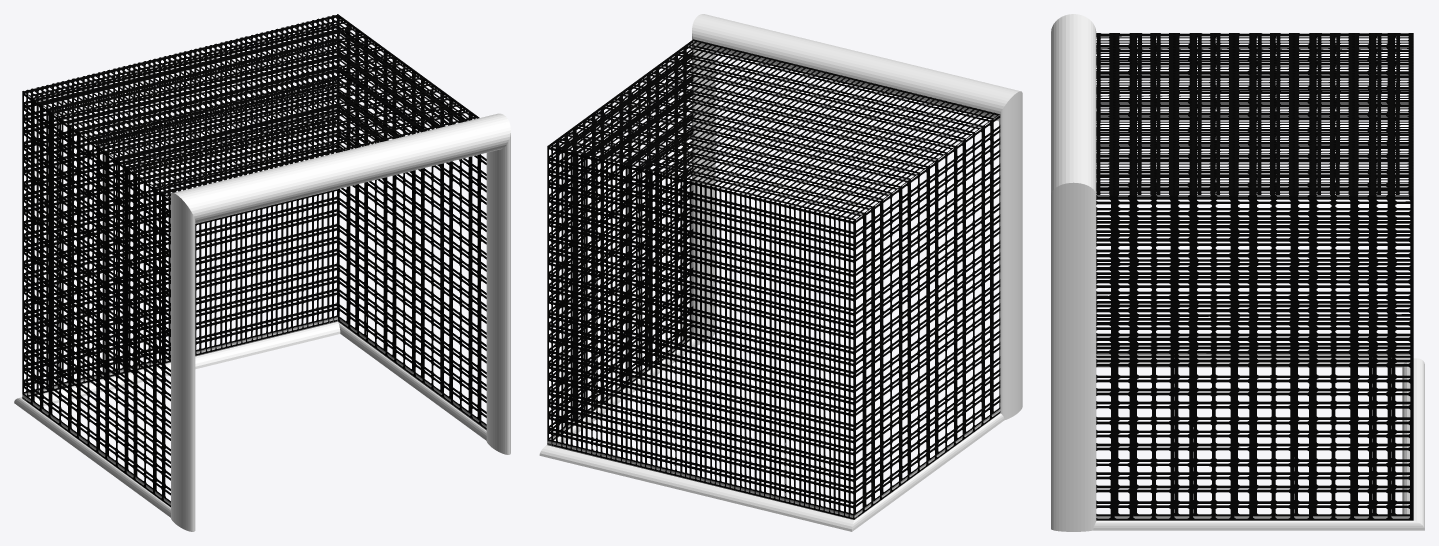
Rendered from leftsoccergoal.obj.
The picture shows the model from 3 angles, left to right: view 1: azimuth 30°, elevation 25°; view 2: azimuth 150°, elevation 25°; view 3: azimuth 270°, elevation 25°; orthographic projection. The views are drawn at different scales.
Parts seen in each view (by area): view 1: NetOuter_NetOuterCube, NetInner_NetInnerCube, Goalsposts_GoalpostTube, Groundring_GroundringTube; view 2: NetOuter_NetOuterCube, NetInner_NetInnerCube, Goalsposts_GoalpostTube, Groundring_GroundringTube; view 3: NetOuter_NetOuterCube, NetInner_NetInnerCube, Goalsposts_GoalpostTube, Groundring_GroundringTube.
Boxes of the visible parts, bbox=[...] form: NetOuter_NetOuterCube: bbox=[22, 15, 486, 507]; NetInner_NetInnerCube: bbox=[22, 14, 486, 505]; Goalsposts_GoalpostTube: bbox=[171, 113, 510, 531]; Groundring_GroundringTube: bbox=[14, 322, 486, 517]; NetOuter_NetOuterCube: bbox=[547, 39, 1000, 519]; NetInner_NetInnerCube: bbox=[547, 40, 1000, 518]; Goalsposts_GoalpostTube: bbox=[692, 14, 1022, 420]; Groundring_GroundringTube: bbox=[539, 339, 1004, 531]; NetOuter_NetOuterCube: bbox=[1096, 33, 1413, 520]; NetInner_NetInnerCube: bbox=[1096, 33, 1413, 518]; Goalsposts_GoalpostTube: bbox=[1051, 14, 1096, 531]; Groundring_GroundringTube: bbox=[1093, 358, 1424, 530].
Bounding box in the file's own units: 1.04 × 1 × 0.9706.
